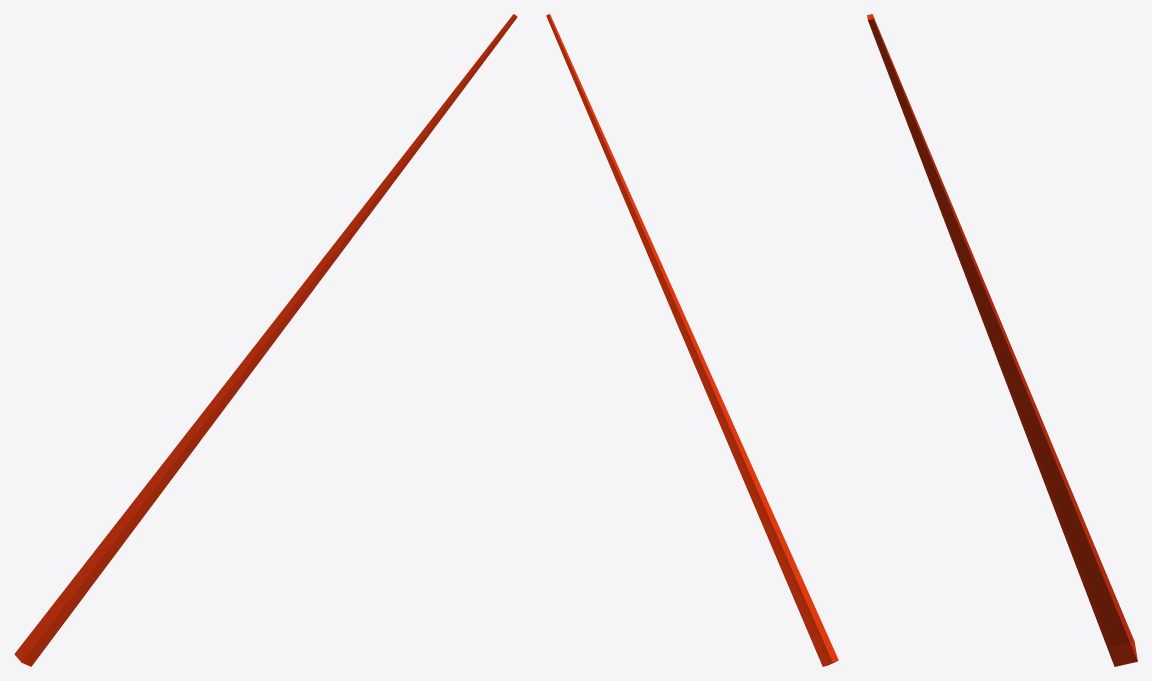
File: Event_421127236_EBrechit_10.fbx
3 renders of one model, left to right at view 1: azimuth 30°, elevation 25°; view 2: azimuth 150°, elevation 25°; view 3: azimuth 270°, elevation 25°, orthographic. The views are drawn at different scales.
Parts seen in each view (by area): view 1: Model; view 2: Model; view 3: Model.
Part boxes in pixels (box(x1,y1,x2,y2)): Model: box(14, 14, 517, 666); Model: box(546, 14, 838, 666); Model: box(867, 14, 1137, 666).
Size of the model in its own units: 7.47 by 10.39 by 2.64.
